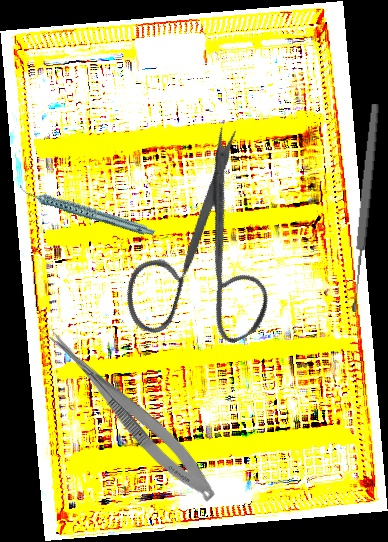Handpiece: (17, 158, 156, 263)
Iris Scissors: (71, 120, 326, 381)
Micro Scissor: (31, 319, 226, 508)
Surgical Spoon: (347, 103, 382, 313)
